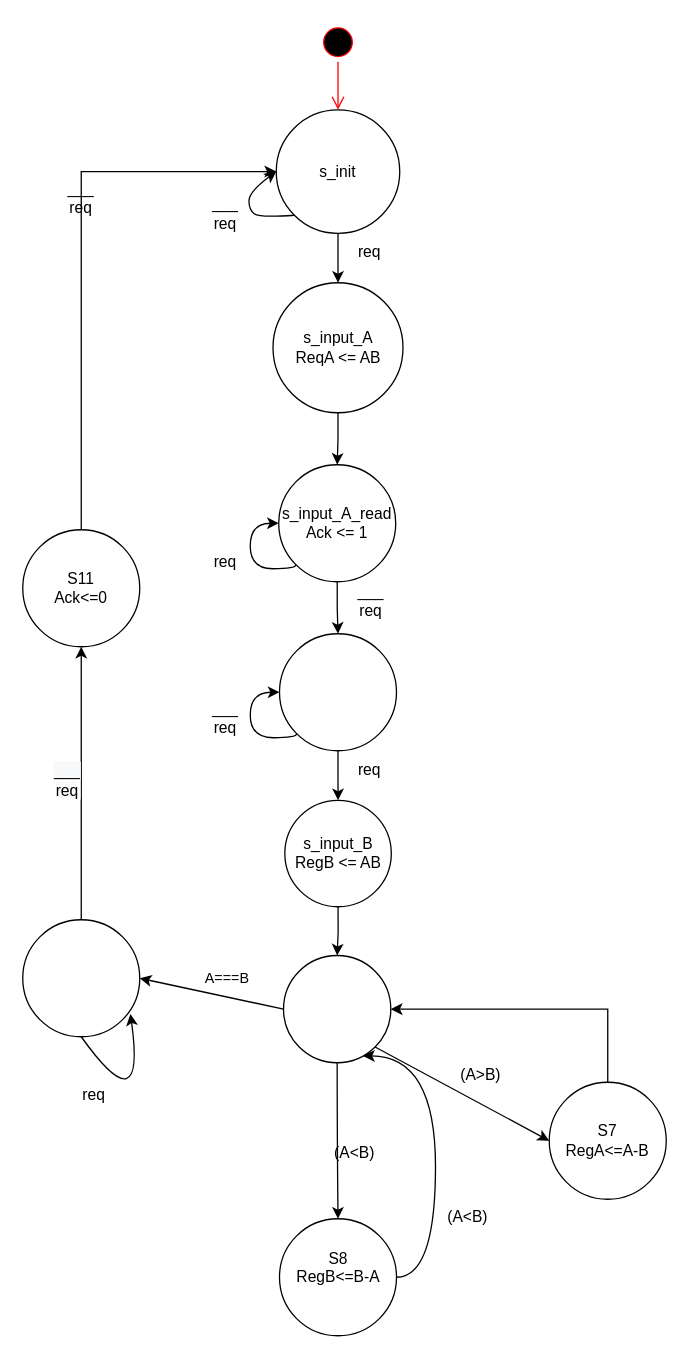
The diagram is 689 pixels wide and 1359 high, and some of its shapes have lost their labels. Each missing label, with the centre of its shape:
S10 Ack <= 1 C <= C_int: (x=80, y=977)
S5 A<?>B: (x=336, y=1008)
s_input_idle Ack <= 0: (x=337, y=691)
